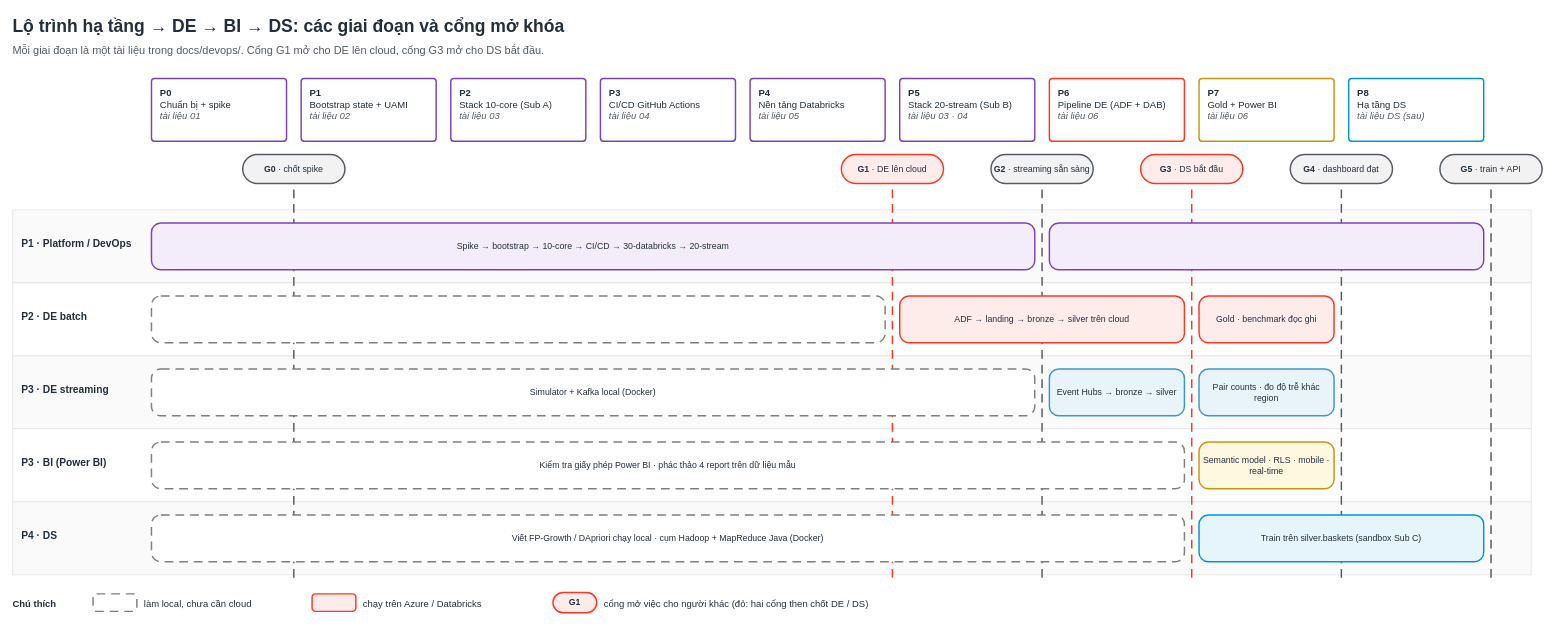
Image size: 1556x626. Some labels were removed from this diagram. The shapes that lost their labels are listed below. From the top down, each one's centre as x and y in pixels, then its label:
At point 1266,246: "Hỗ trợ DE/BI · 40-orchestration · theo dõi chi phí · hạ tầng DS (G5)".
At point 517,319: "Viết + test code local (Docker Spark, dữ liệu mẫu)".
